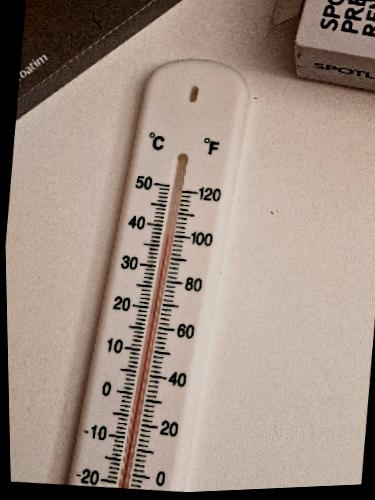thermo: (63, 49, 257, 500)
